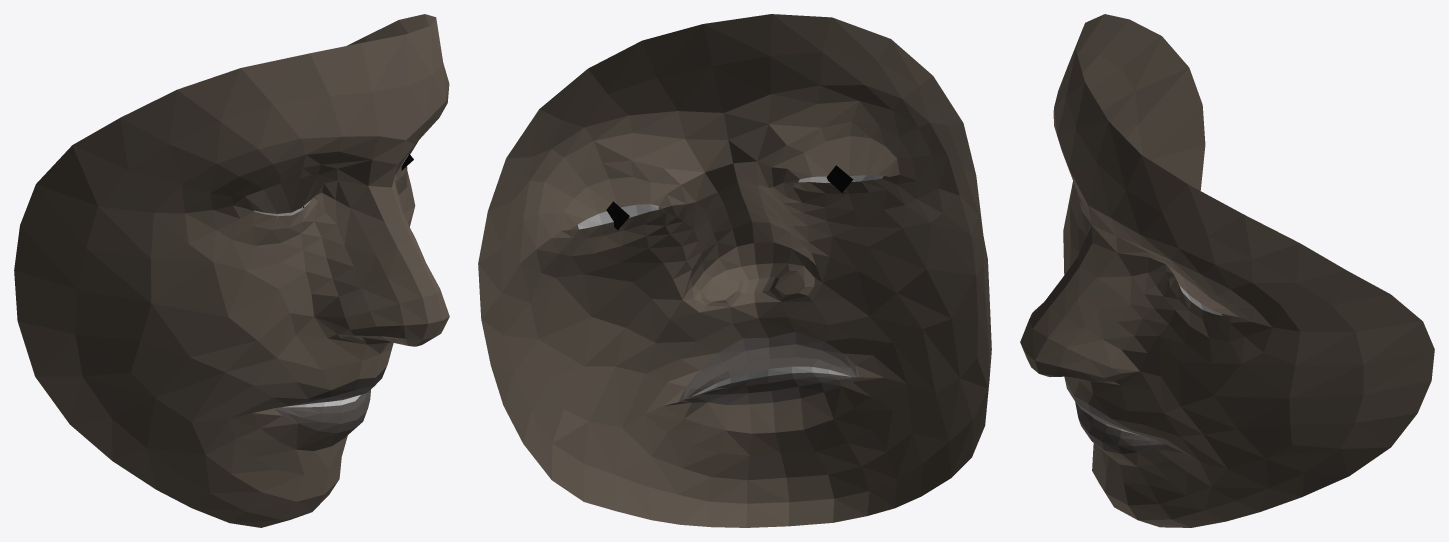
Rendered from frame_00182.obj.
3 renders of one model, left to right at view 1: azimuth 30°, elevation 25°; view 2: azimuth 150°, elevation 25°; view 3: azimuth 270°, elevation 25°, orthographic. The views are drawn at different scales.
Visible parts, largest first — view 1: face_model_with_iris; view 2: face_model_with_iris; view 3: face_model_with_iris.
Boxes of the visible parts, x1,y1,x2,y2 form: face_model_with_iris: [14, 14, 449, 527]; face_model_with_iris: [478, 14, 991, 527]; face_model_with_iris: [1020, 14, 1434, 527].
Size of the model in its own units: 0.5008 by 0.5396 by 0.4412.
